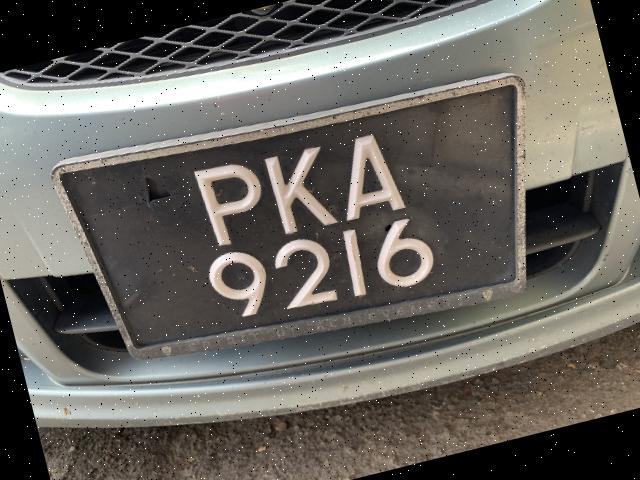License_Plate: (58, 67, 539, 393)
